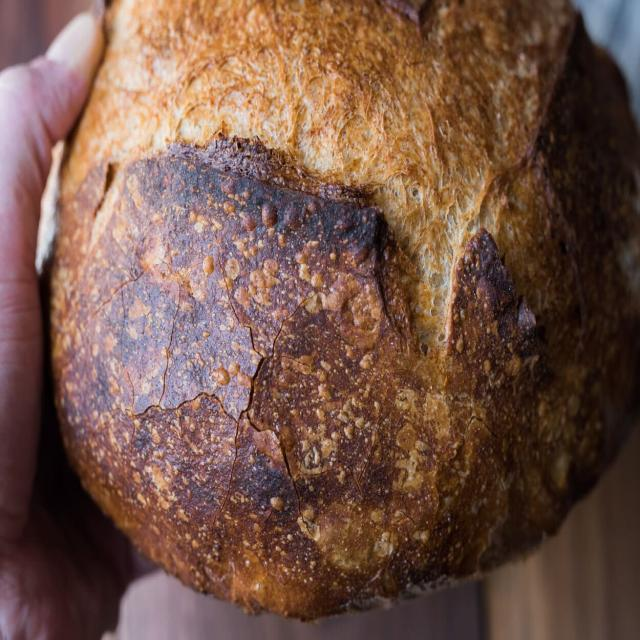Maltese-Bread: (50, 0, 639, 620)
